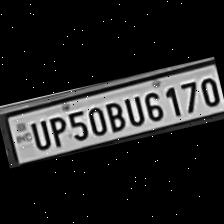0: (194, 72, 222, 107), (83, 101, 109, 136)
1: (158, 82, 182, 118)
5: (63, 105, 90, 142)
6: (138, 86, 165, 124)
7: (174, 76, 201, 114)
B: (101, 96, 128, 132)
P: (44, 111, 69, 147)
U: (24, 116, 52, 152), (119, 92, 145, 127)
